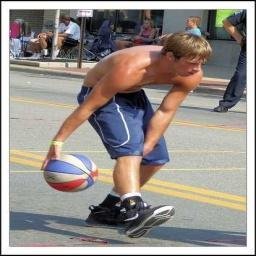ball: (43, 152, 99, 193)
human: (39, 30, 212, 240)
